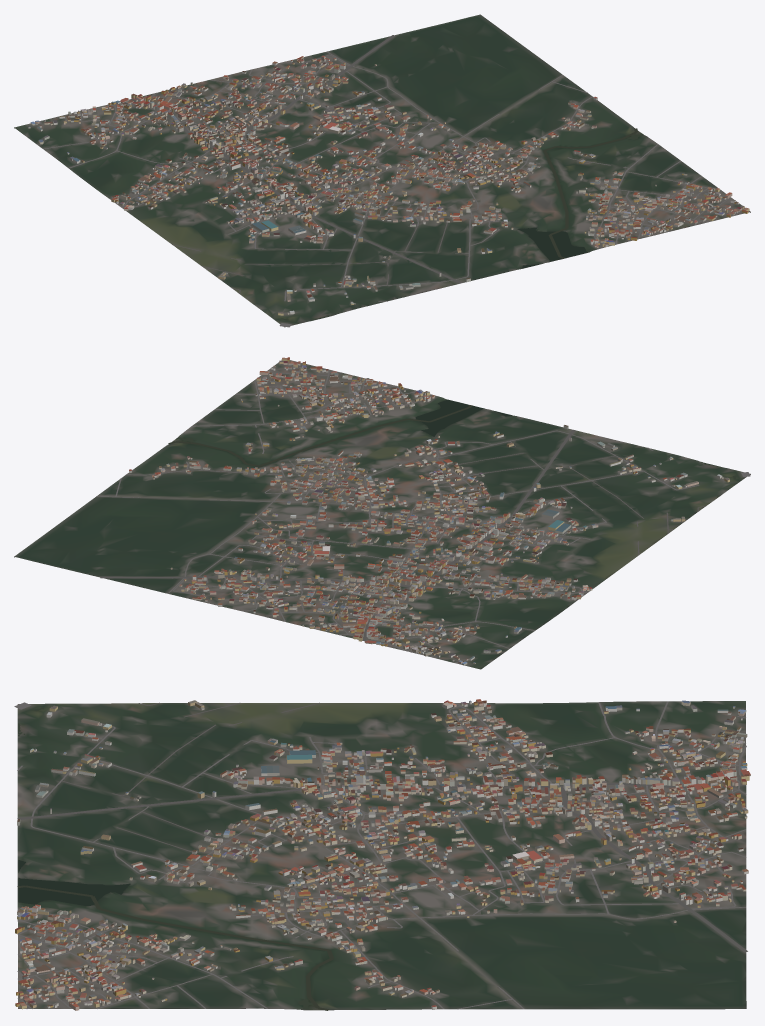
3 renders of one model, top to bottom at view 1: azimuth 30°, elevation 25°; view 2: azimuth 150°, elevation 25°; view 3: azimuth 270°, elevation 25°, orthographic. The views are drawn at different scales.
Visible parts, largest first — view 1: ground, buildings, roads, water; view 2: ground, buildings, roads, water; view 3: ground, buildings, roads, water.
Part boxes in pixels (bbox=[...]): ground: bbox=[14, 14, 750, 327]; buildings: bbox=[28, 55, 749, 315]; roads: bbox=[39, 35, 745, 327]; water: bbox=[281, 128, 643, 320]; ground: bbox=[14, 360, 750, 669]; buildings: bbox=[129, 357, 729, 665]; roads: bbox=[96, 362, 750, 663]; water: bbox=[168, 399, 736, 479]; ground: bbox=[17, 701, 746, 1010]; buildings: bbox=[15, 699, 750, 1010]; roads: bbox=[14, 701, 747, 1009]; water: bbox=[17, 707, 333, 1010].
Size of the model in its own units: 1413 by 26.14 by 1418.
